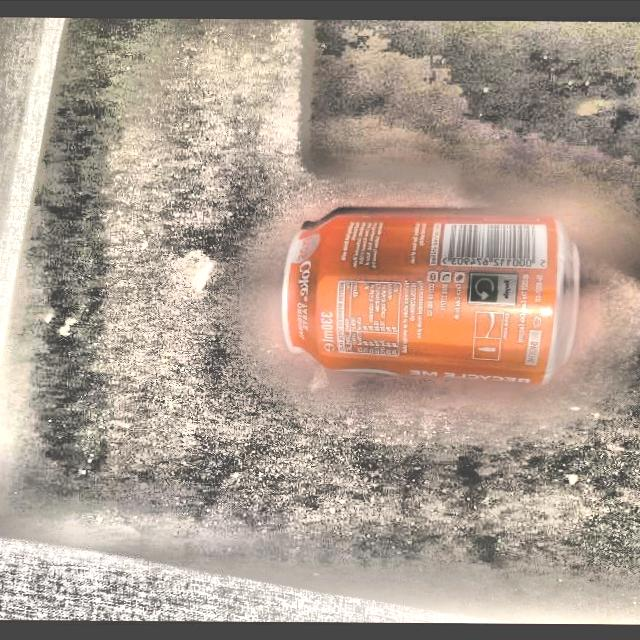coke-can: (272, 196, 590, 394)
